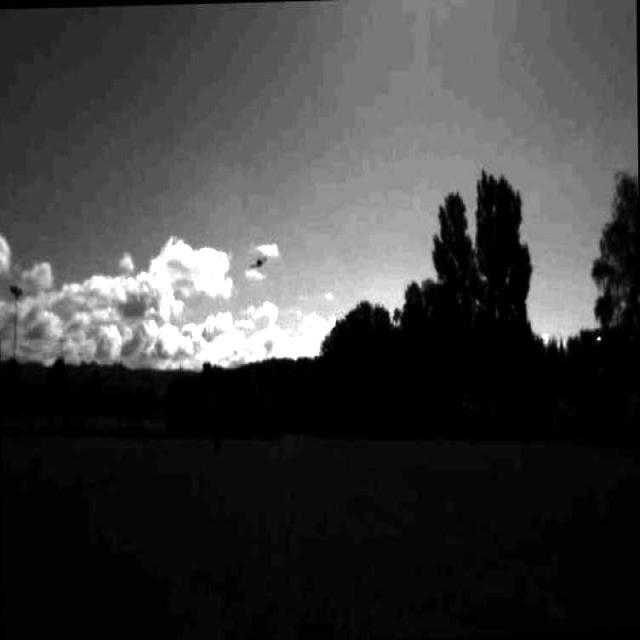drone: (244, 248, 272, 278)
